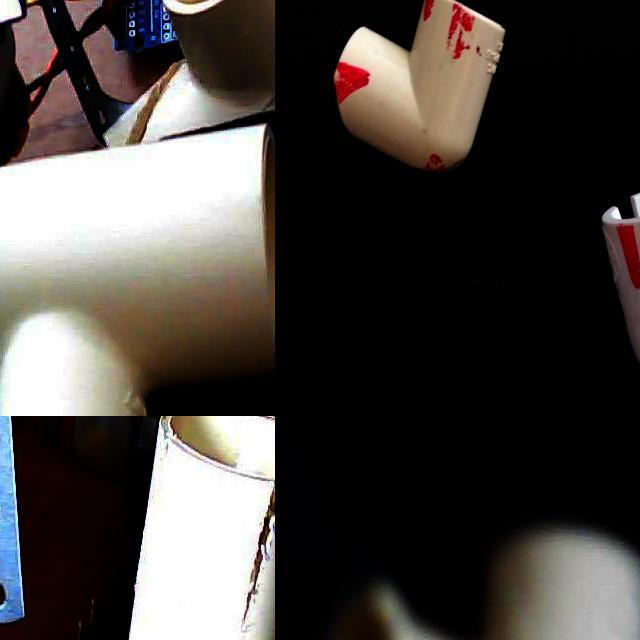Defective: (162, 416, 275, 640), (517, 133, 584, 184), (487, 0, 530, 35), (437, 108, 461, 139), (558, 102, 583, 124)
L Joint: (444, 0, 584, 219), (284, 345, 435, 416)
T Joint: (0, 125, 275, 416), (126, 416, 275, 640)
